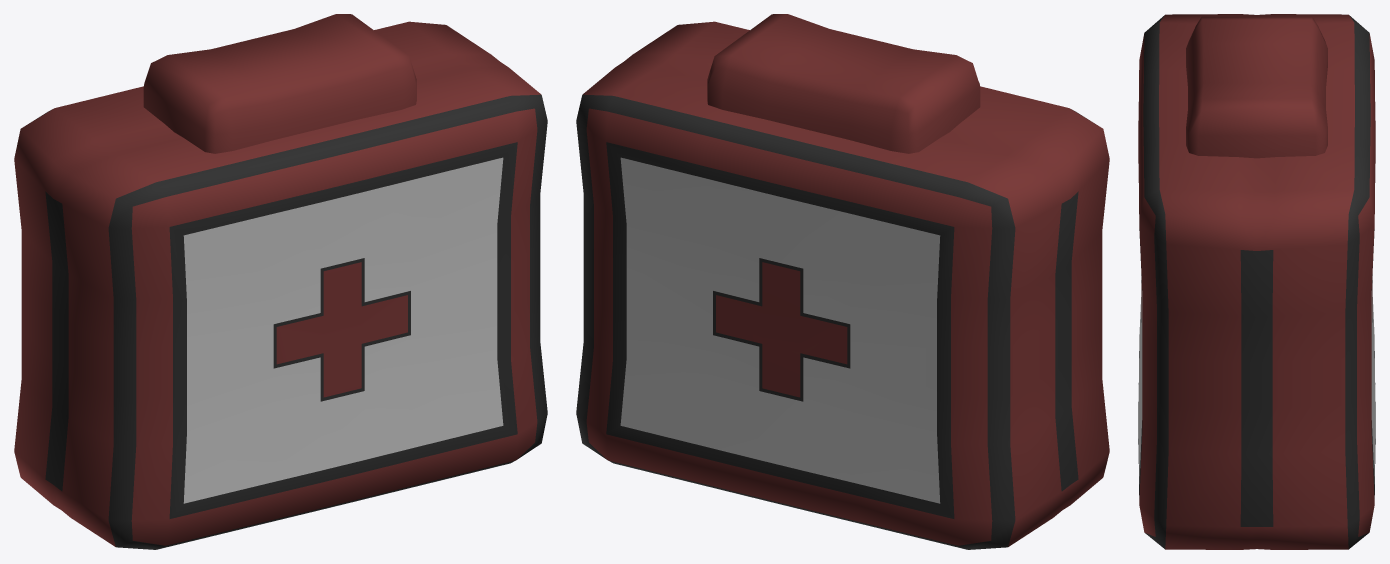
File: AidKit_Small.fbx
The picture shows the model from 3 angles, left to right: view 1: azimuth 30°, elevation 25°; view 2: azimuth 150°, elevation 25°; view 3: azimuth 270°, elevation 25°; orthographic projection. The views are drawn at different scales.
Visible parts, largest first — view 1: AidKit_Small; view 2: AidKit_Small; view 3: AidKit_Small.
Part boxes in pixels (x1,y1,x2,y2): AidKit_Small: [14, 14, 547, 549]; AidKit_Small: [576, 14, 1109, 549]; AidKit_Small: [1138, 14, 1375, 549].
Bounding box in the file's own units: 75.65 × 65.79 × 35.49.
